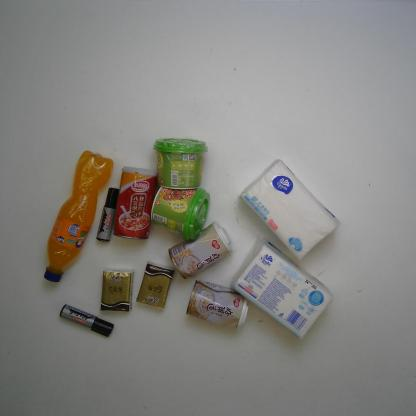Canned Food: (168, 220, 235, 281), (185, 280, 253, 329), (114, 164, 157, 241)
Drink: (44, 149, 114, 283)
Instant Drink: (150, 183, 210, 243), (153, 136, 208, 188)
Stationery: (58, 304, 115, 337), (96, 186, 120, 244)
Tissue: (228, 237, 334, 342), (241, 160, 340, 261), (136, 261, 175, 311), (100, 266, 131, 312)
